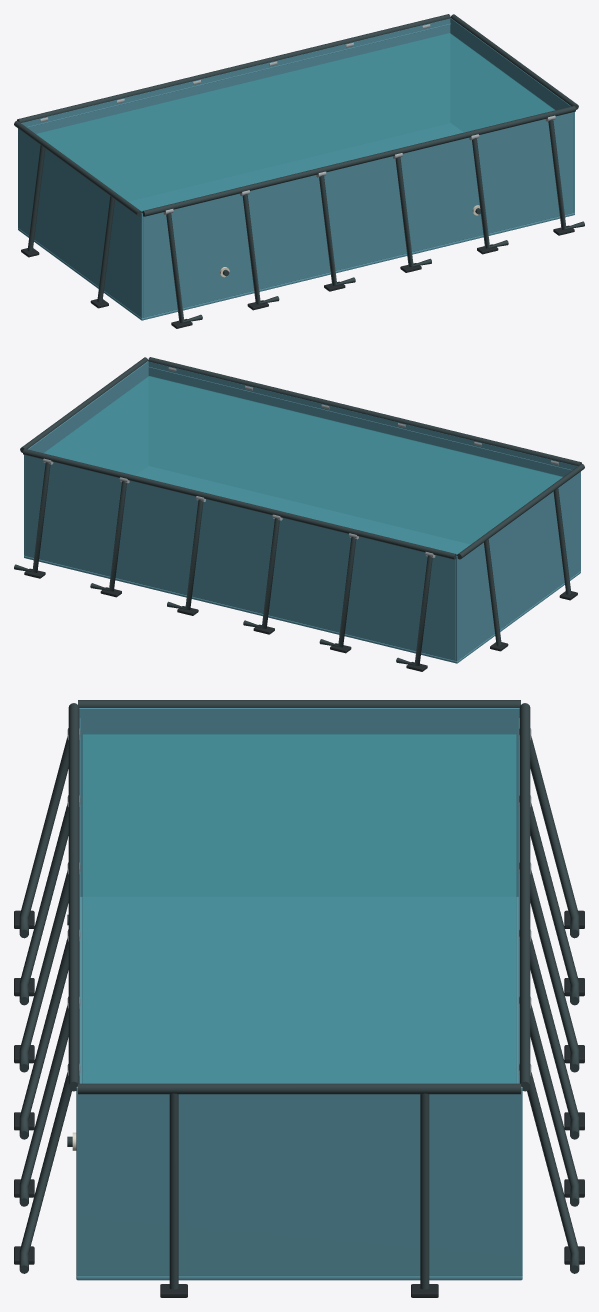
File: pool-rectangular-frame.glb
The picture shows the model from 3 angles, top to bottom: view 1: azimuth 30°, elevation 25°; view 2: azimuth 150°, elevation 25°; view 3: azimuth 270°, elevation 25°; orthographic projection. The views are drawn at different scales.
Visible parts, largest first — view 1: pool-rectangular-frame authored assembly; view 2: pool-rectangular-frame authored assembly; view 3: pool-rectangular-frame authored assembly.
Boxes of the visible parts, x1,y1,x2,y2 form: pool-rectangular-frame authored assembly: (14, 14, 584, 328); pool-rectangular-frame authored assembly: (14, 357, 584, 671); pool-rectangular-frame authored assembly: (14, 700, 584, 1297).
Bounding box in the file's own units: 5.95 × 1.32 × 3.45.
